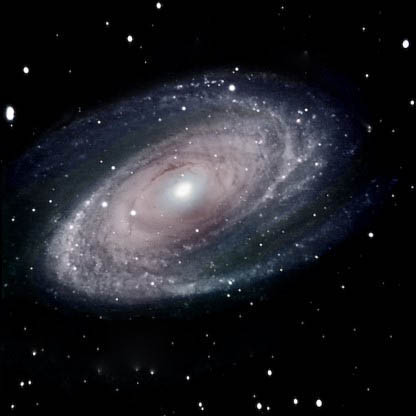Messier 81: (6, 66, 371, 309)
